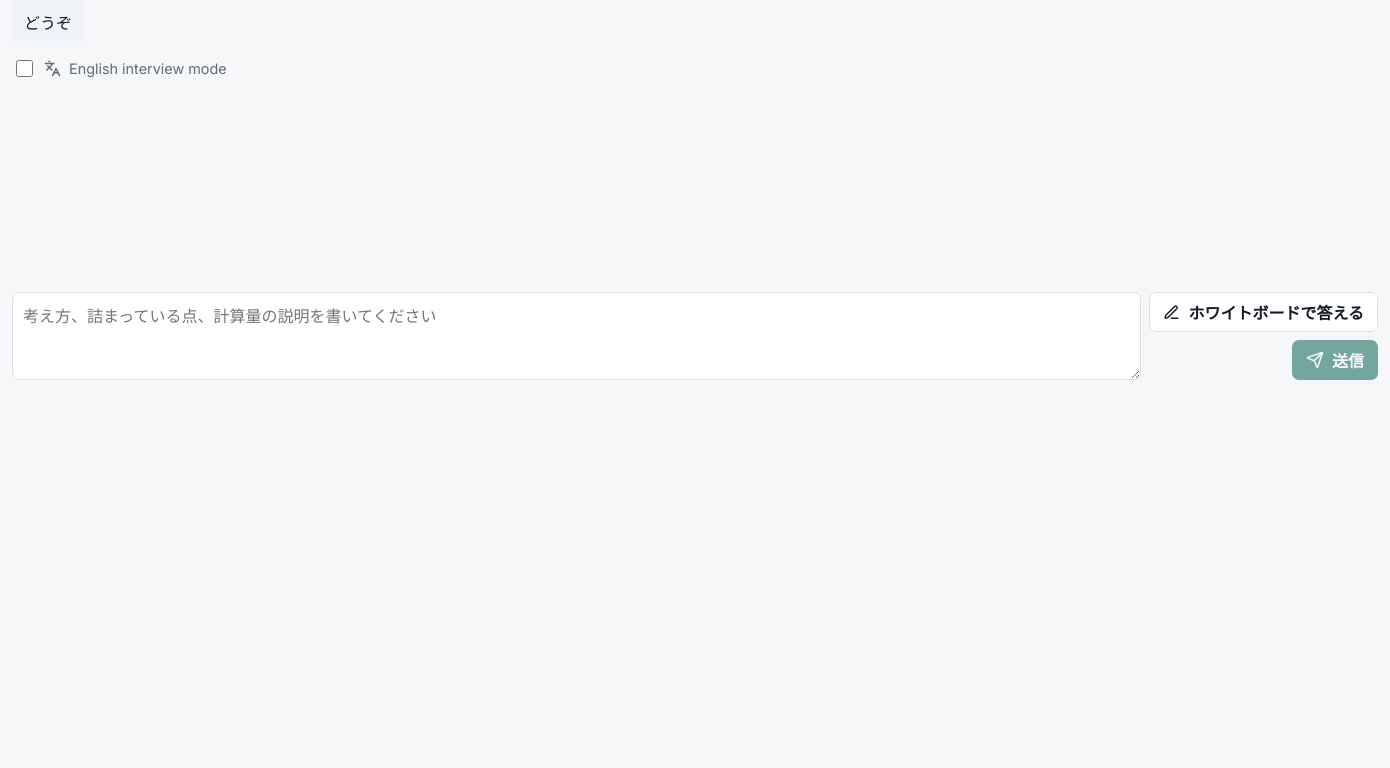
Test case: AIChat › submits an artifact and closes the composer
The width and height of the screenshot is (1390, 768).
Click the button "ホワイトボードで答える".
click(1264, 312)  # box x1=1150 y1=292 x2=1378 y2=332
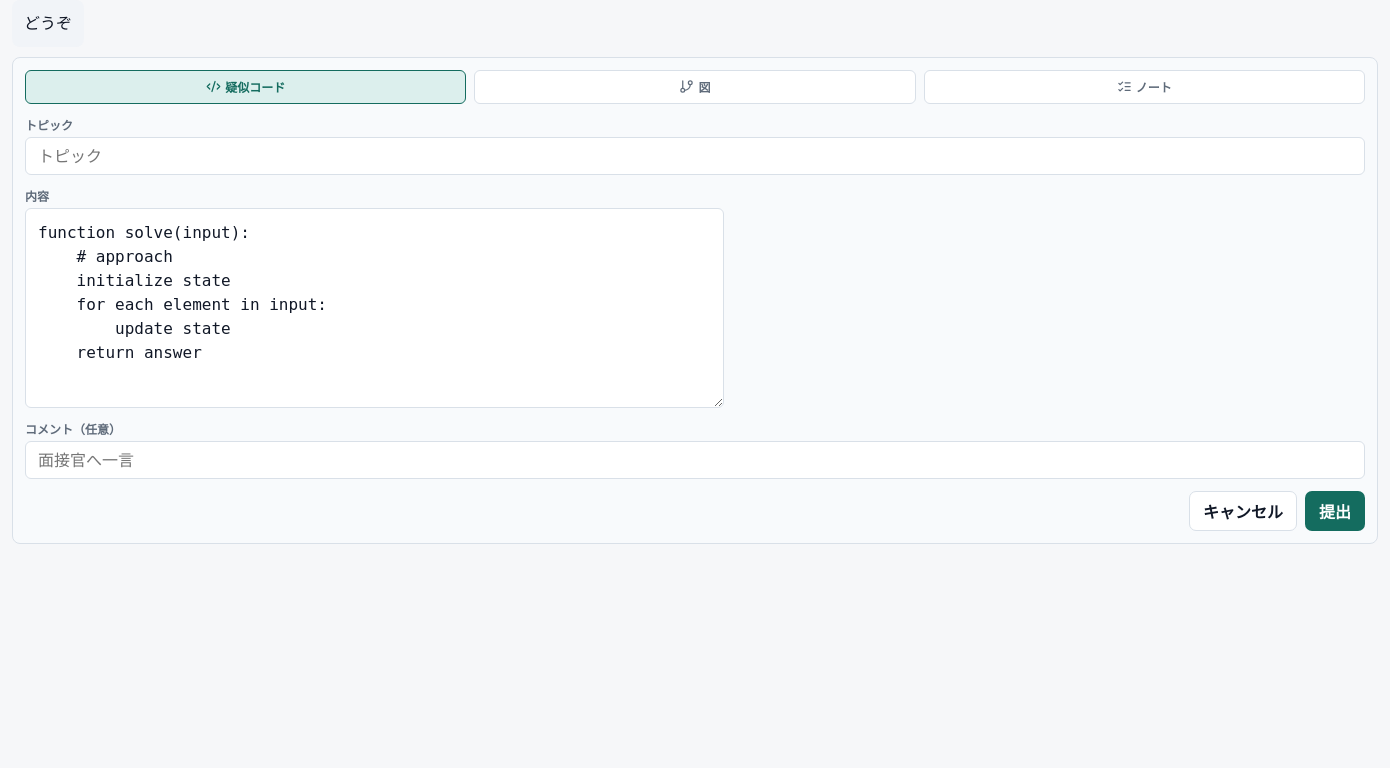
Click the button "提出".
click(1335, 511)  # box x1=1305 y1=491 x2=1365 y2=531
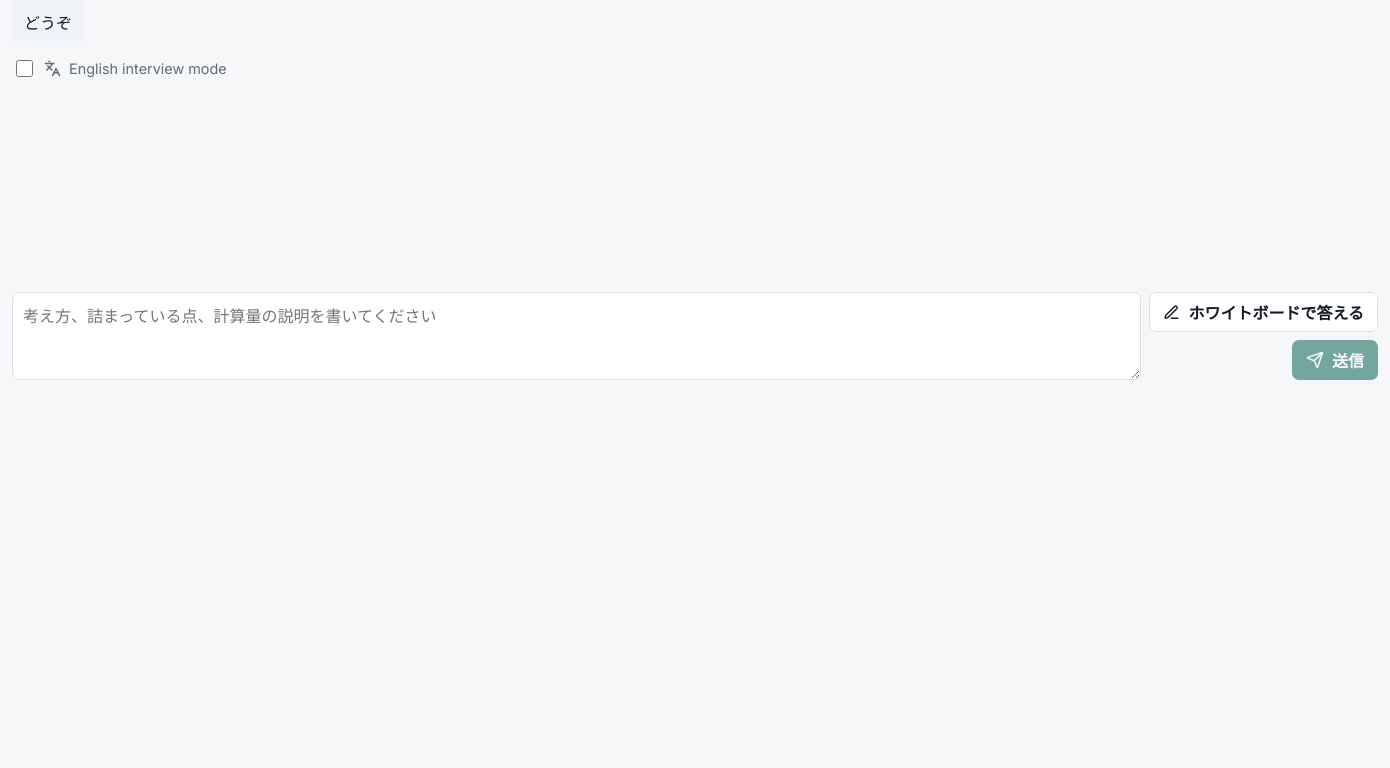
expect the button "送信" is shown: met, box x1=1292 y1=340 x2=1378 y2=380
